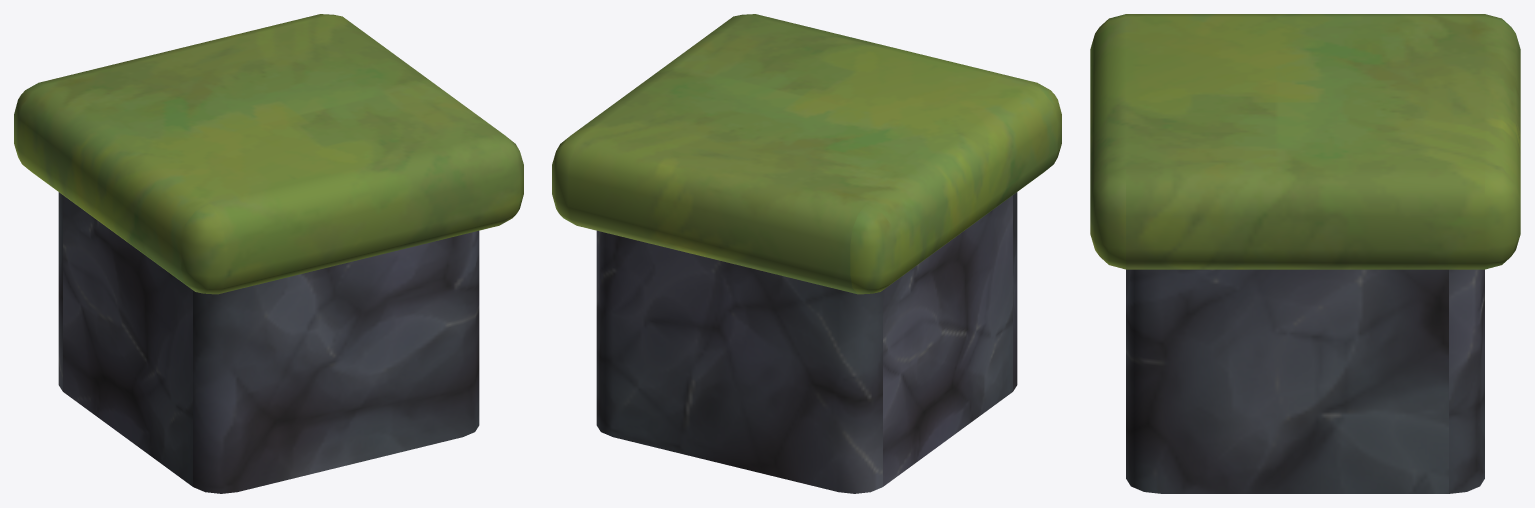
The model's file is GroundButton.fbx.
3 renders of one model, left to right at view 1: azimuth 30°, elevation 25°; view 2: azimuth 150°, elevation 25°; view 3: azimuth 270°, elevation 25°, orthographic. The views are drawn at different scales.
Visible parts, largest first — view 1: GroundButton; view 2: GroundButton; view 3: GroundButton.
Boxes of the visible parts, x1,y1,x2,y2 form: GroundButton: [14, 14, 523, 493]; GroundButton: [552, 14, 1061, 493]; GroundButton: [1090, 14, 1520, 493].
Bounding box in the file's own units: 240 × 200 × 240.
